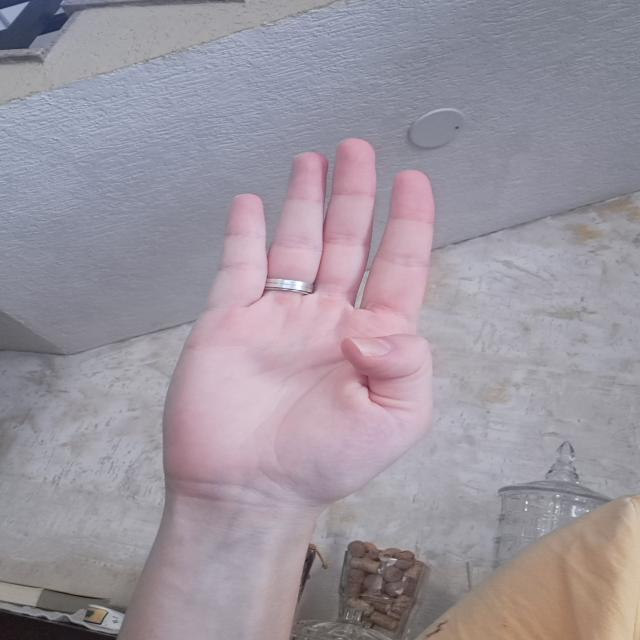B: (162, 130, 452, 518)
